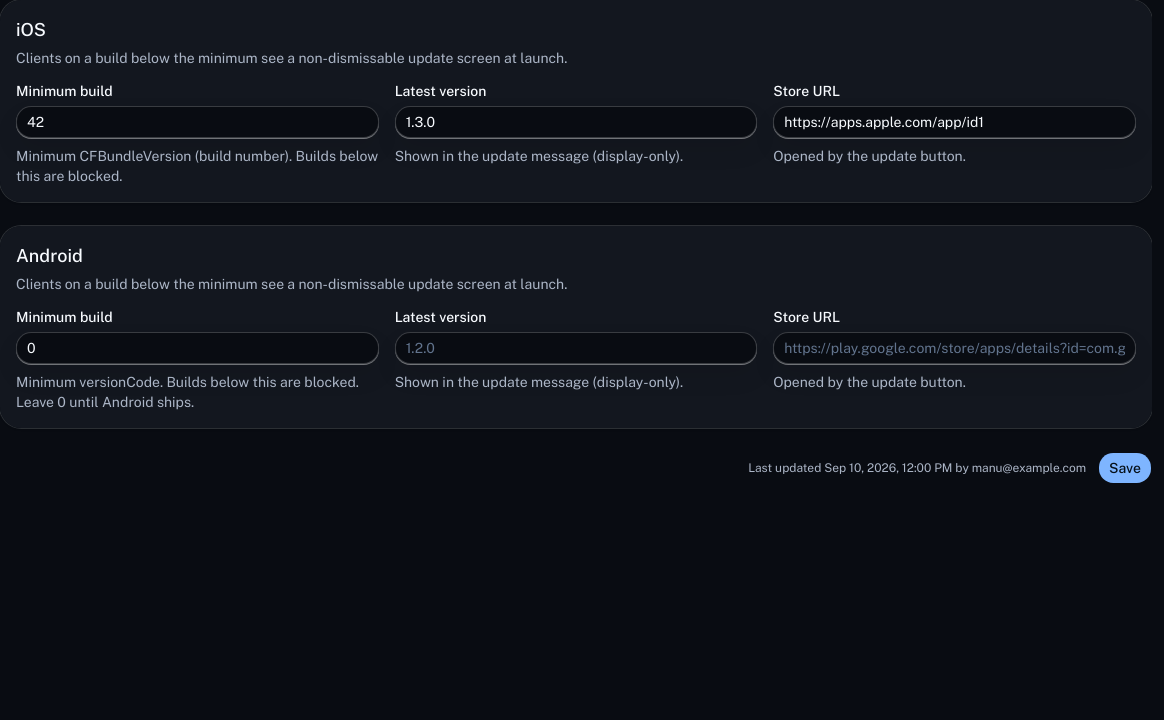
Test: AppVersionForm — the display-only fields › refuses a store URL that is not http(s)
Replace the text in the 2nd field labelled "Store URL" with "market://details?id=x" at (955, 348), box [773,332,1136,364]
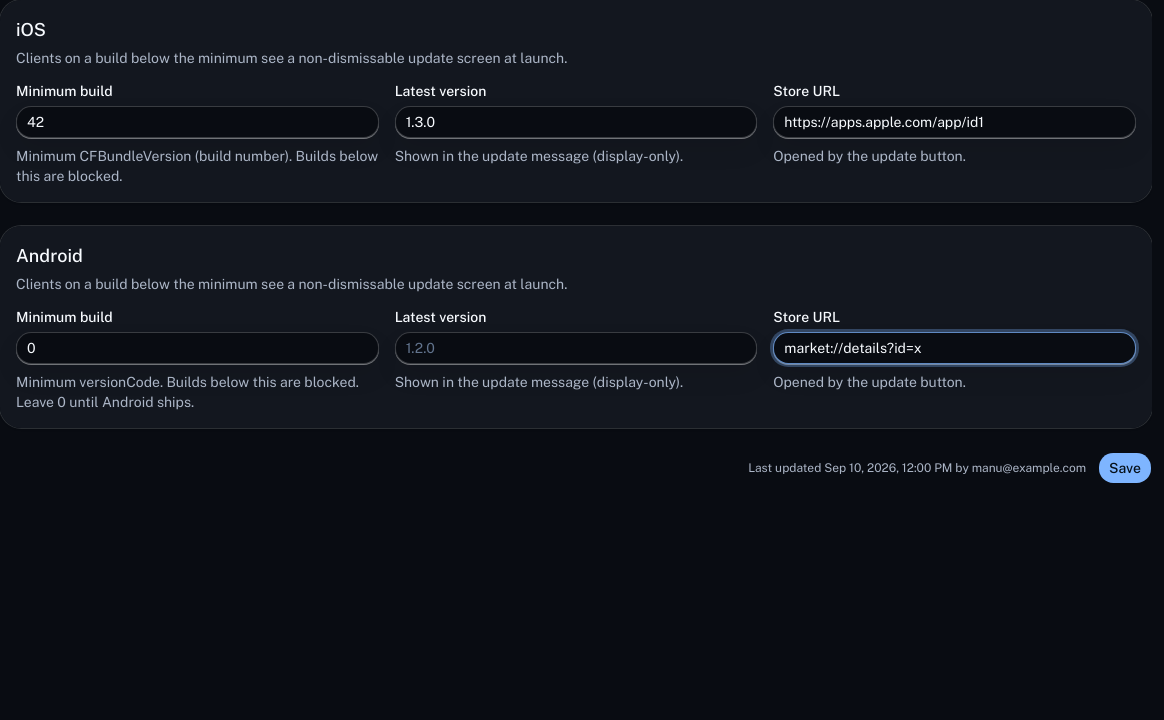
Click the button "Save" at (1125, 468), box [1098,452,1152,484]
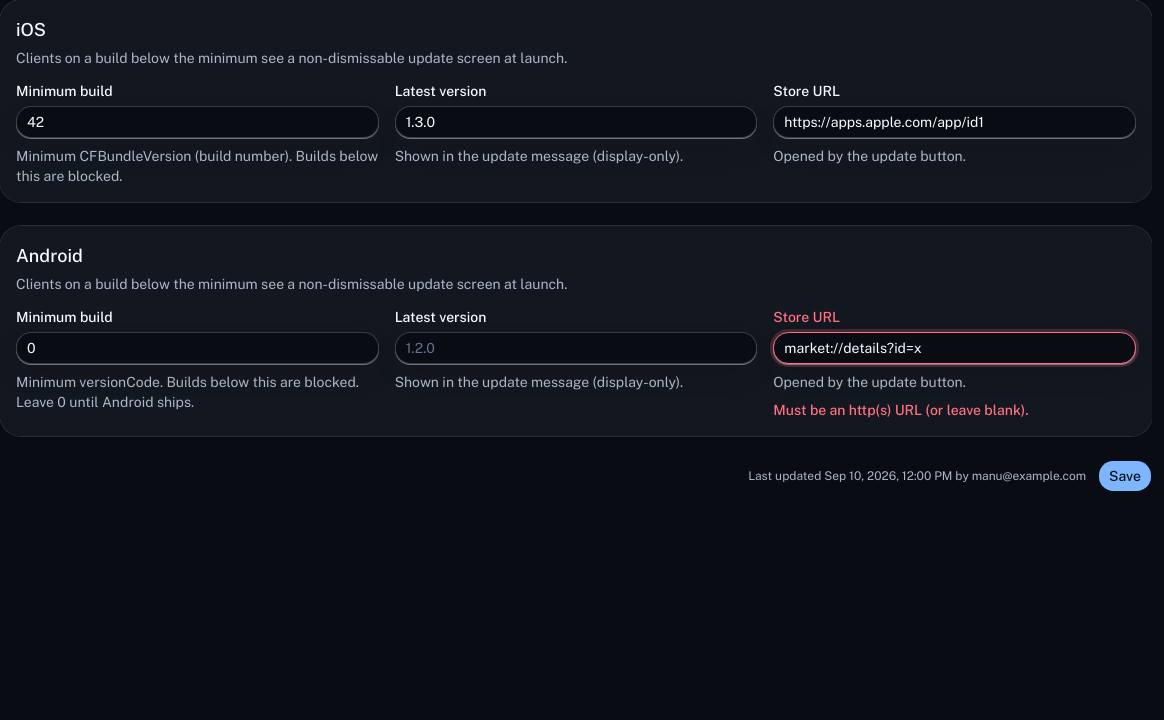
Expected: the text "Must be an http(s) URL (or leave blank)." is shown, [773,402,1028,418]
